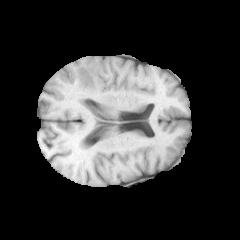glioma: (75, 65, 97, 98)
